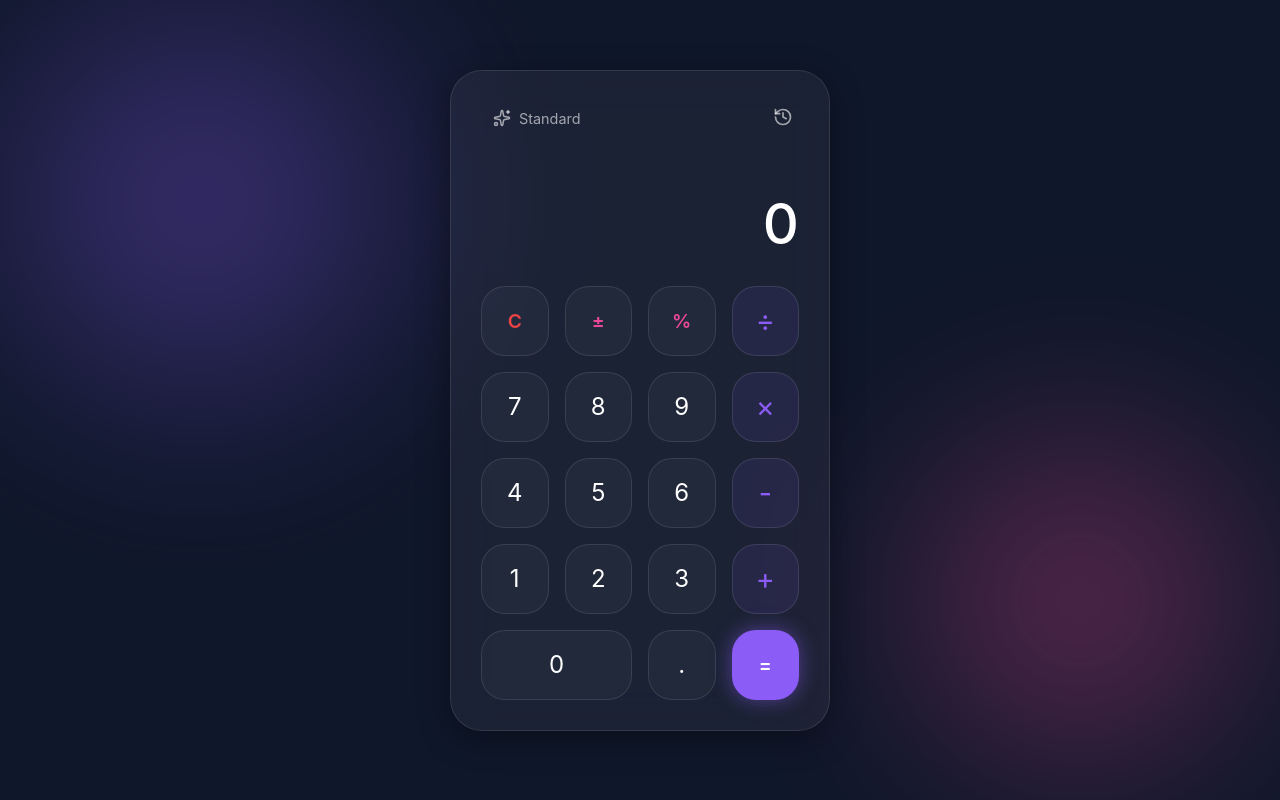
it: Calculator App › clears display
This screenshot has width=1280, height=800.
Click the button "5".
click(598, 492)  # box [564,458,632,528]
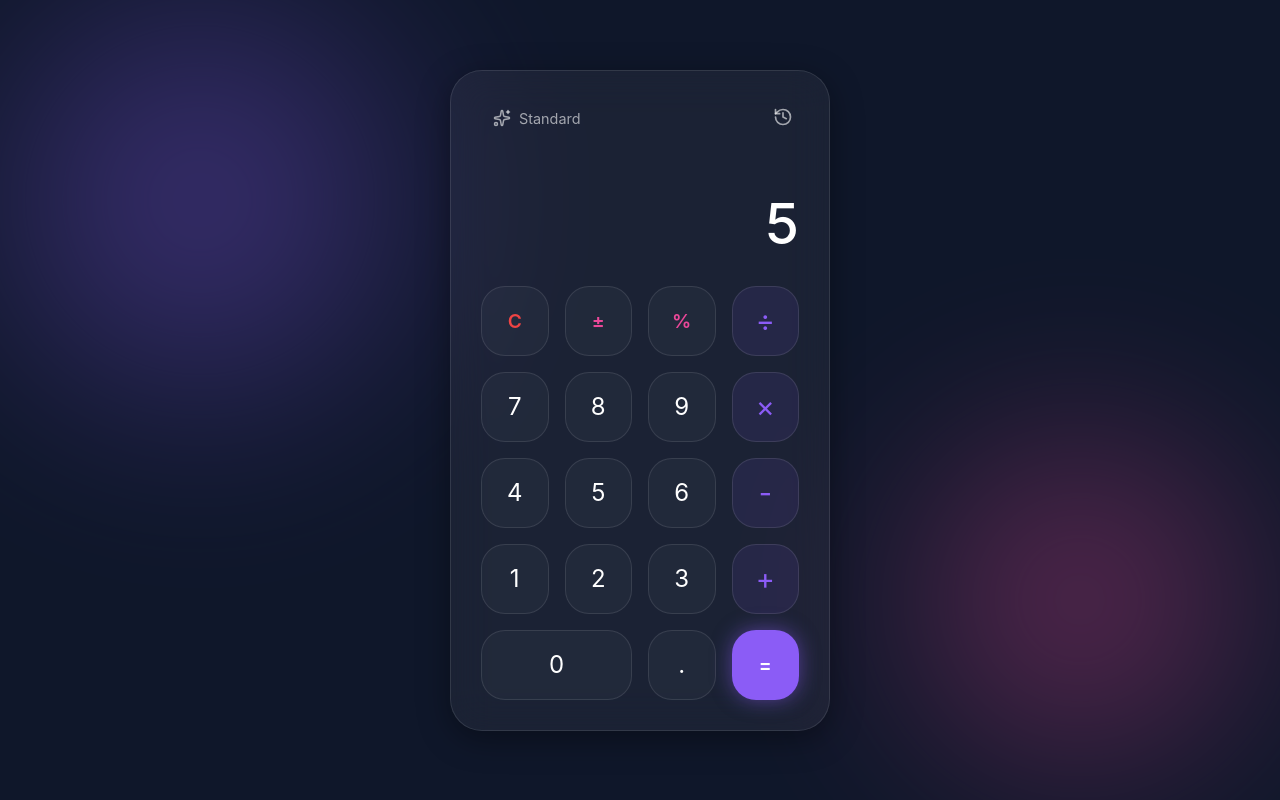
Click the button "C".
click(515, 320)  # box [481,286,548,356]
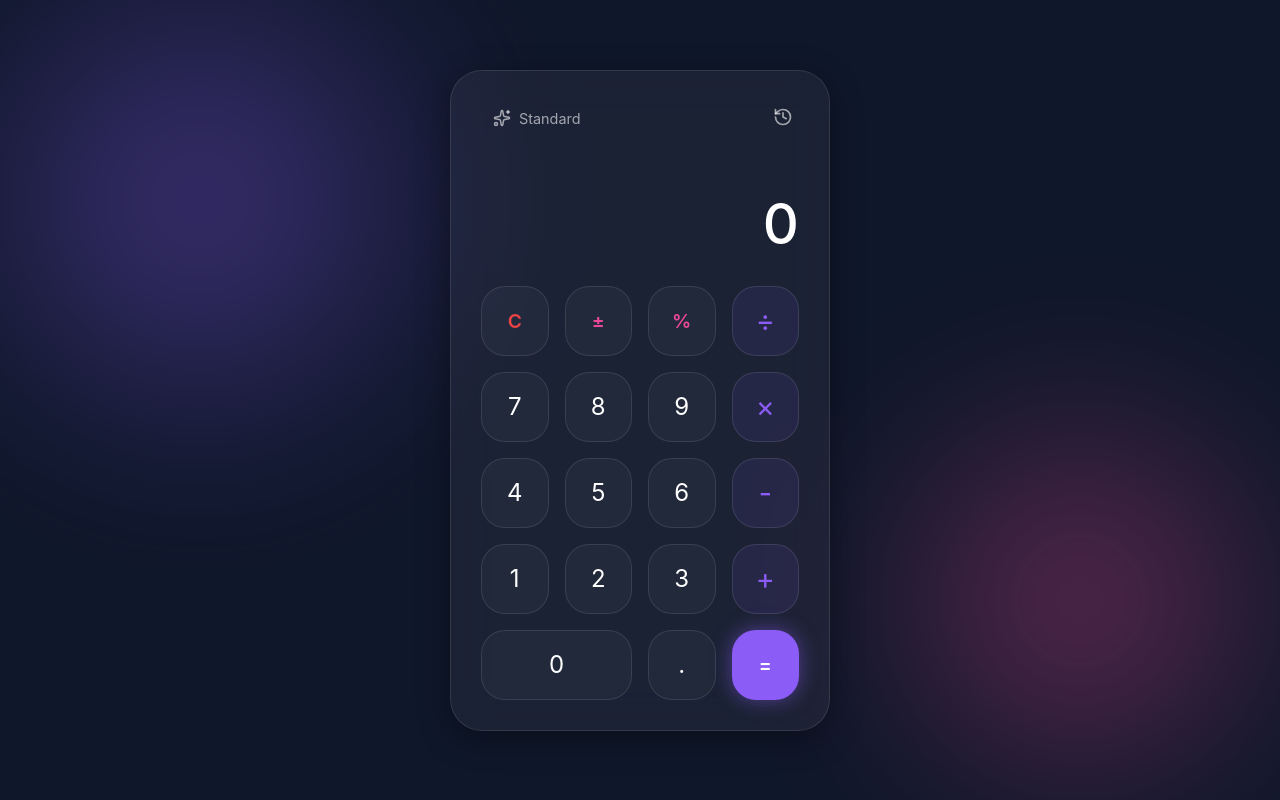
Expected: the text with test id "display" reads "0", [763,190,799,258]
